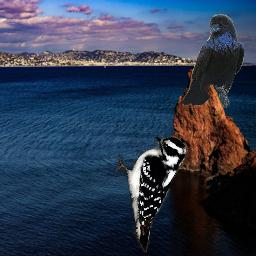Crow: (183, 14, 244, 108)
Woodpecker: (116, 137, 186, 255)
